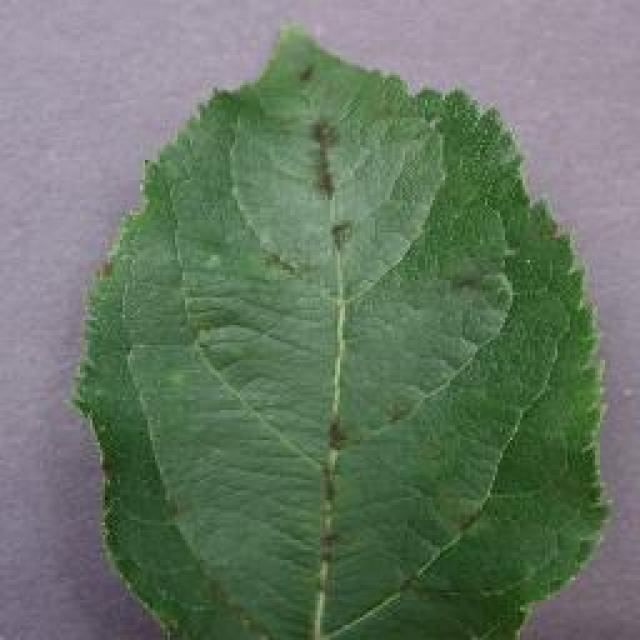apple scab disease: (70, 20, 612, 638)
